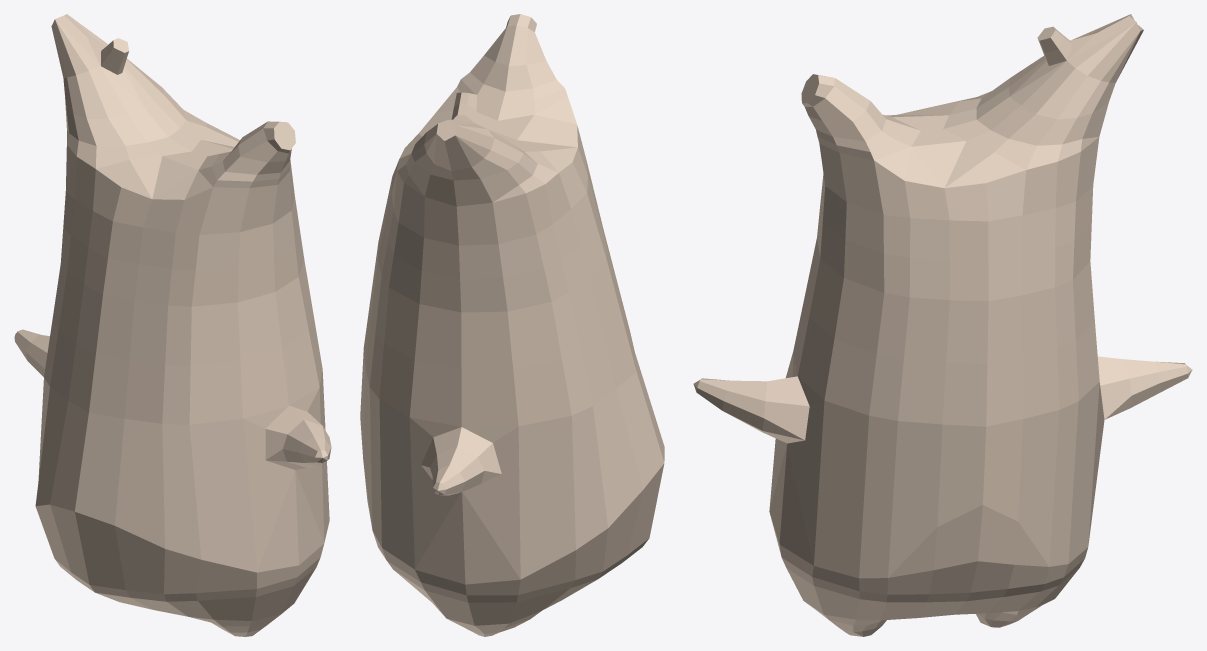
The model's file is frame_0069.obj.
3 views of the same model, side by side, from view 1: azimuth 30°, elevation 25°; view 2: azimuth 150°, elevation 25°; view 3: azimuth 270°, elevation 25° (orthographic). The views are drawn at different scales.
Visible parts, largest first — view 1: korok; view 2: korok; view 3: korok.
Part boxes in pixels (x1,y1,x2,y2): korok: [14, 14, 331, 636]; korok: [360, 14, 664, 636]; korok: [693, 14, 1192, 636].
Bounding box in the file's own units: 1.03 × 2.13 × 1.61.
